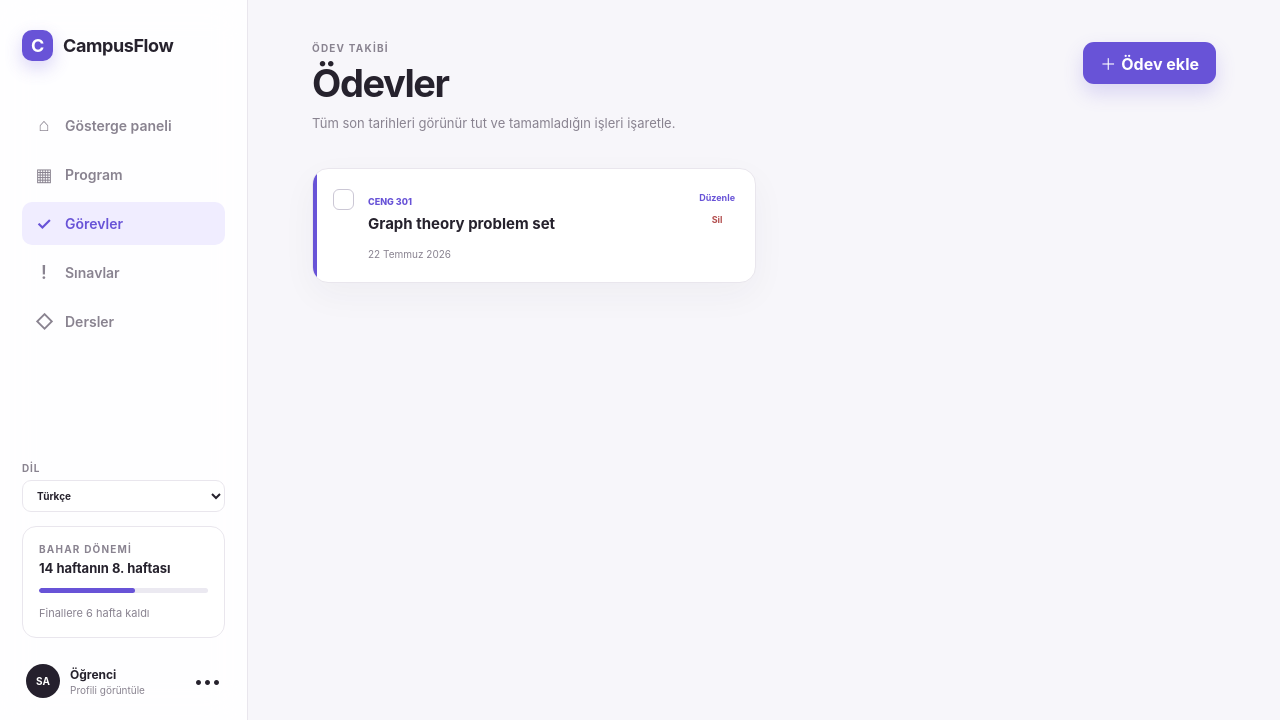
Test: CampusFlow web application › edits and deletes an assignment from the assignments page
The width and height of the screenshot is (1280, 720).
Check: the heading "Graph theory problem set" is shown, box [368,214,555,232]
Click the button "Düzenle" at (717, 197), box [699,188,735,206]
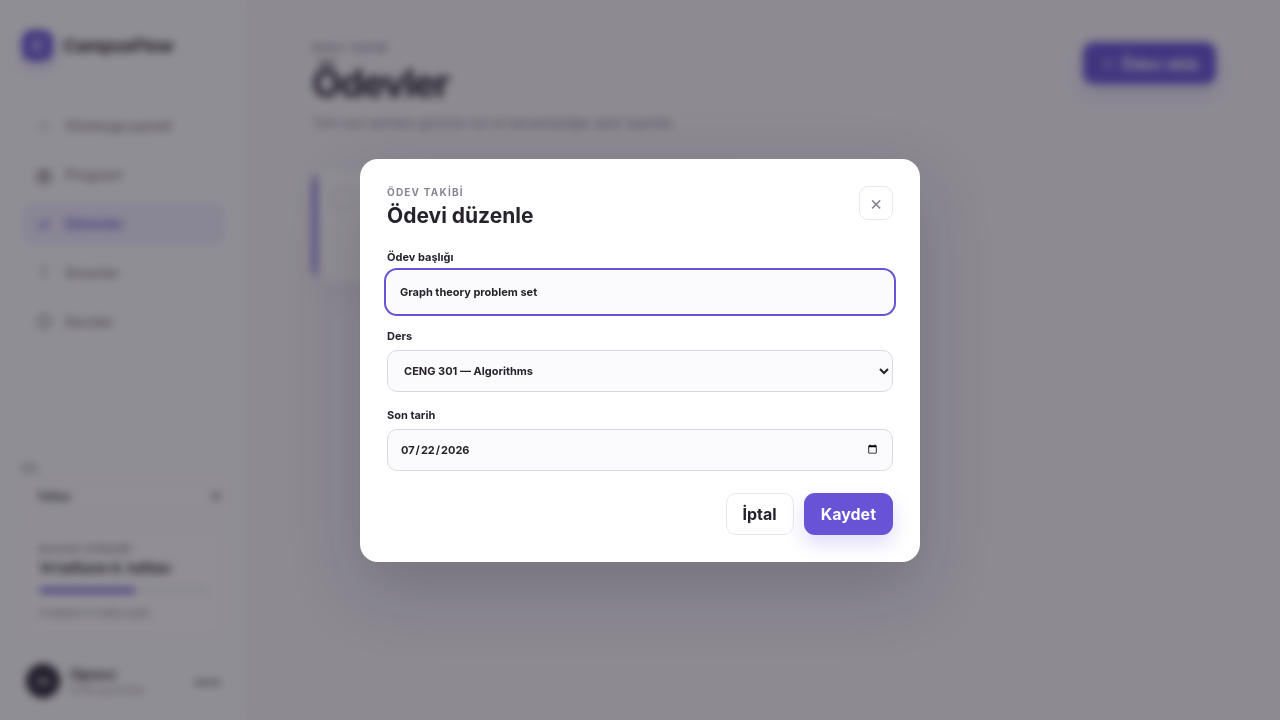
Replace the text in the field labelled "Ödev başlığı" with "Advanced graph theory" at (640, 292), box [387,270,893,312]
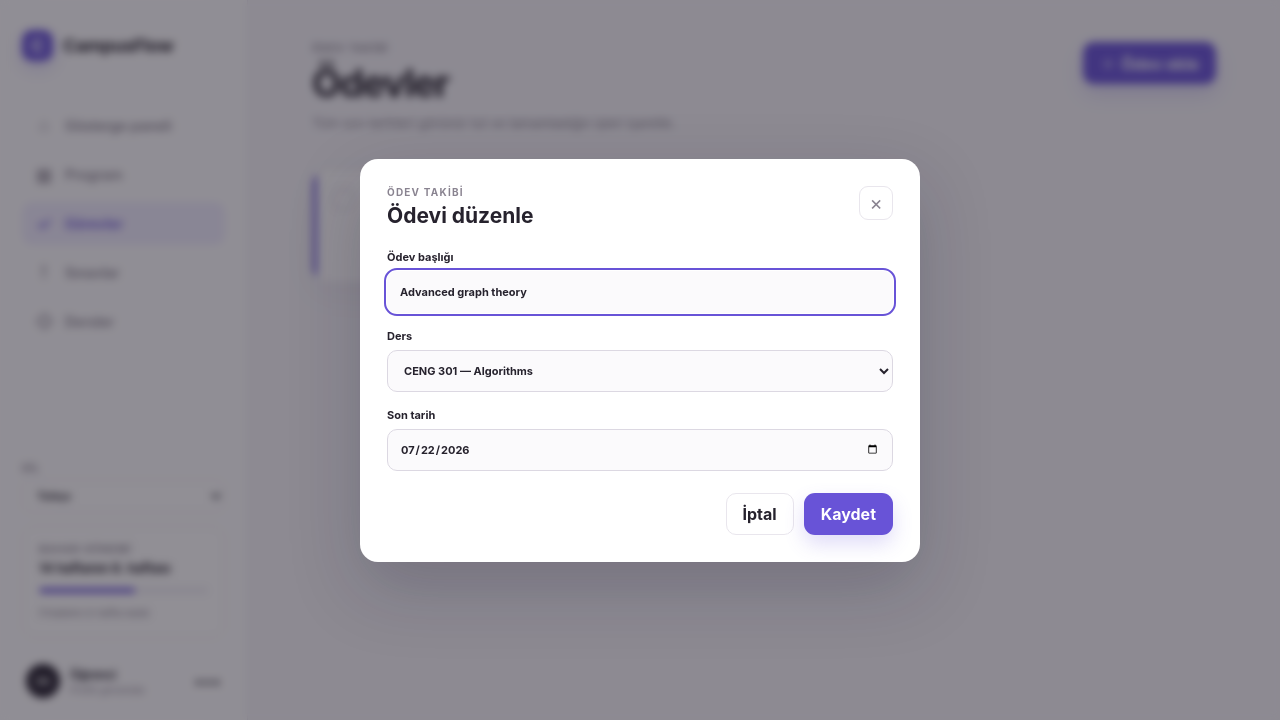
Click the button "Kaydet" at (848, 514), box [804,492,893,534]
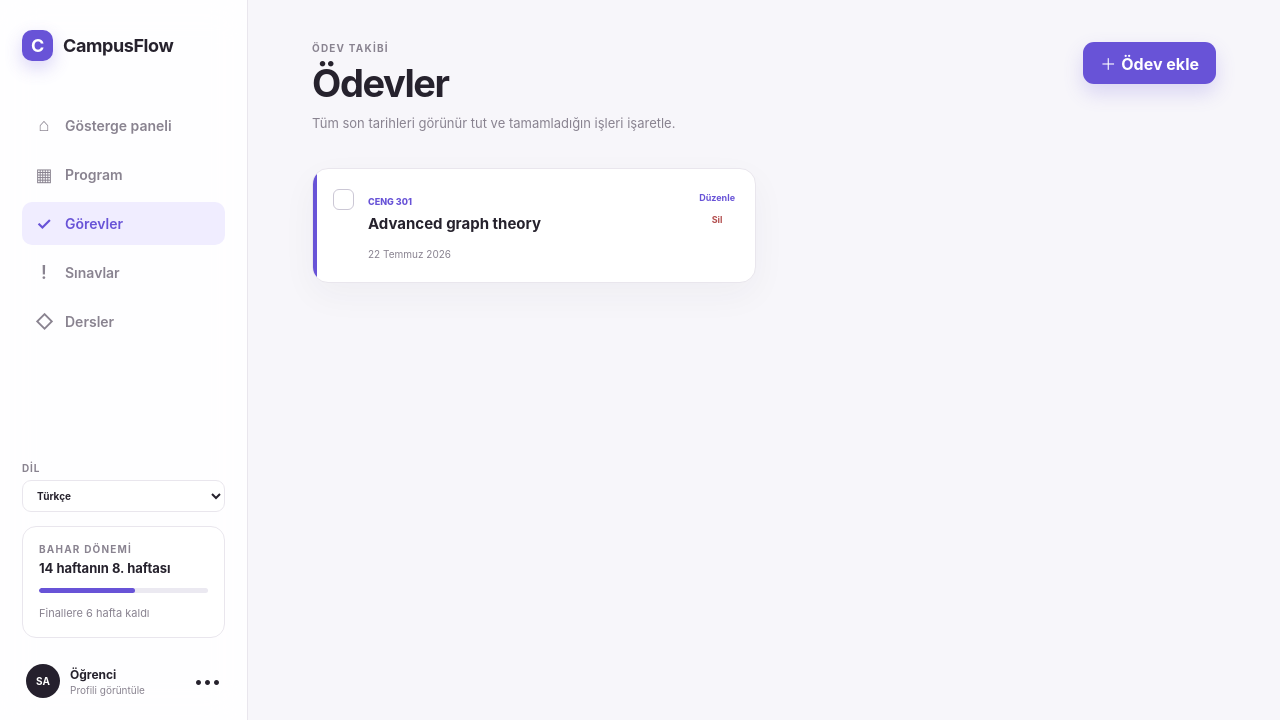
Check: the heading "Advanced graph theory" is shown, box [368,214,541,232]
Click the button "Sil" at (717, 219), box [699,210,735,228]
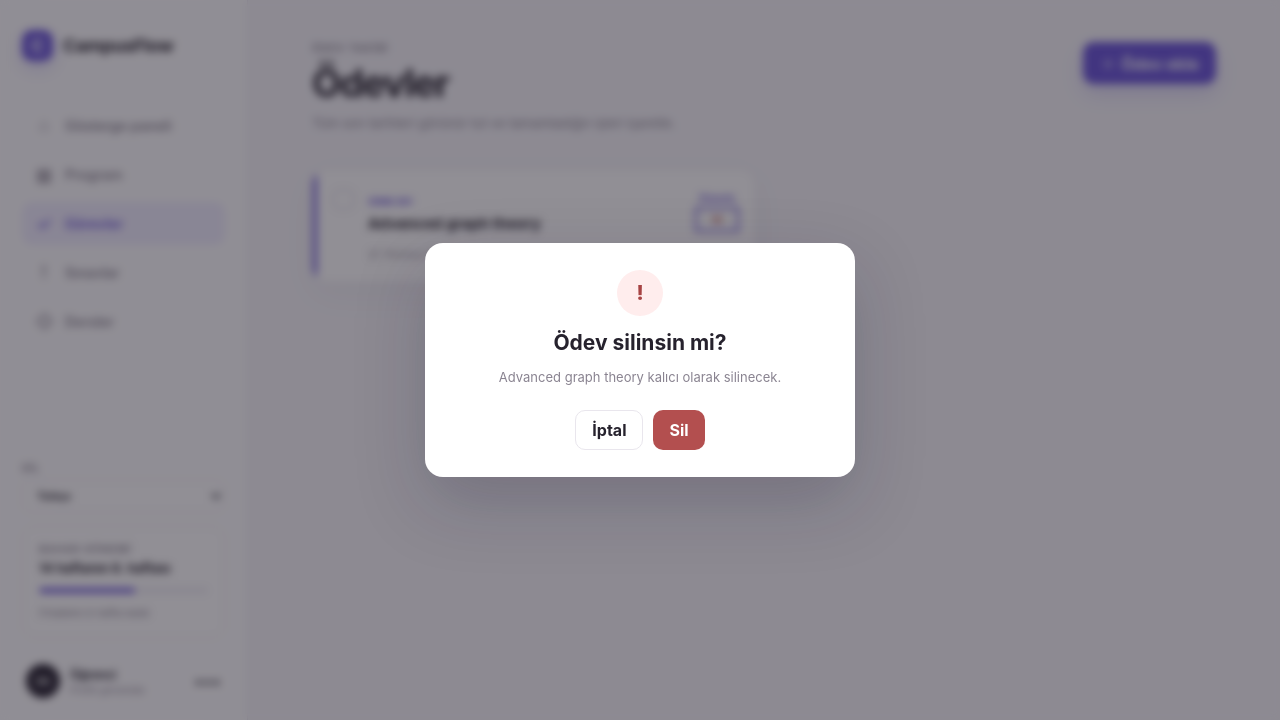
Click the button "Sil" at (679, 430), box [654,410,705,450]
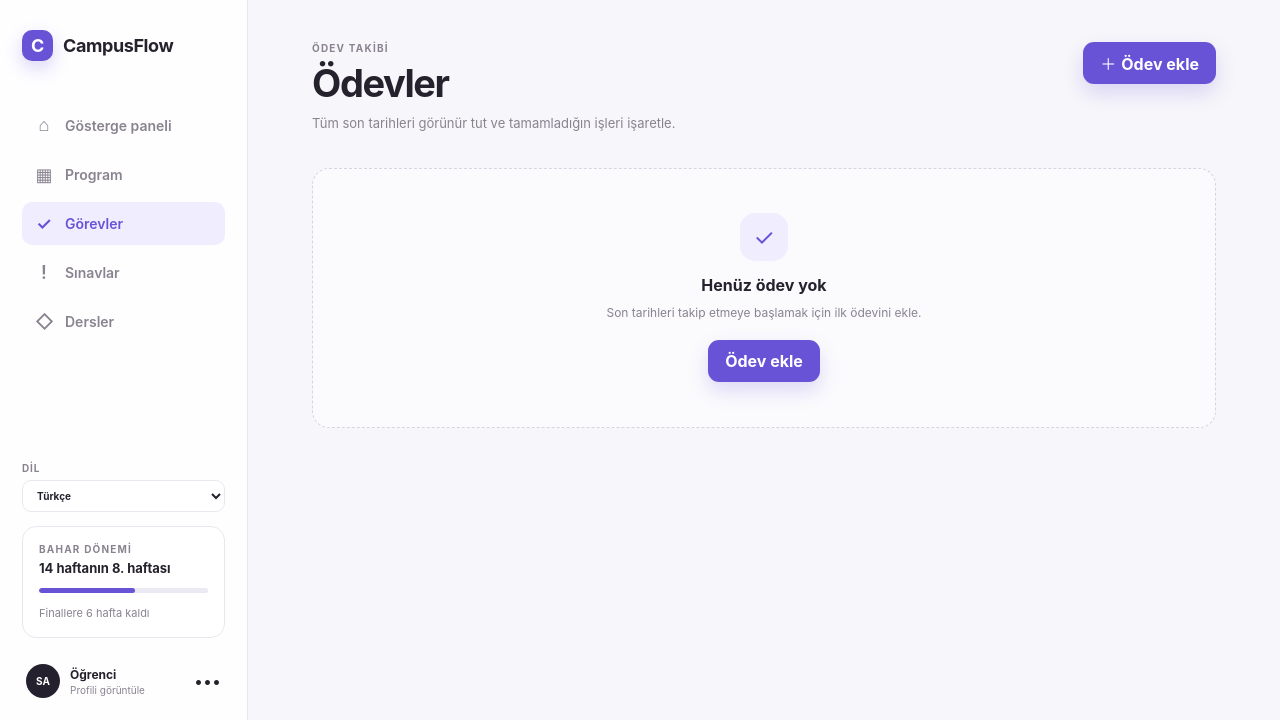
Check: the text "Henüz ödev yok" is shown, box [701,275,827,295]
